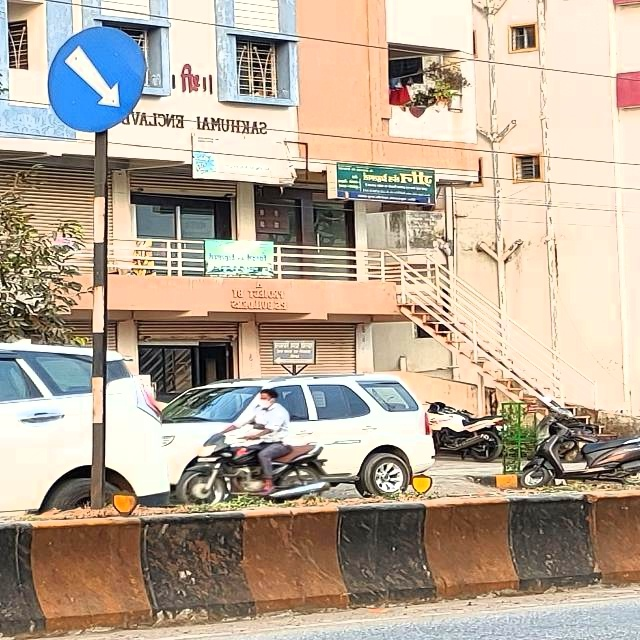R.301e: (38, 21, 151, 141)
